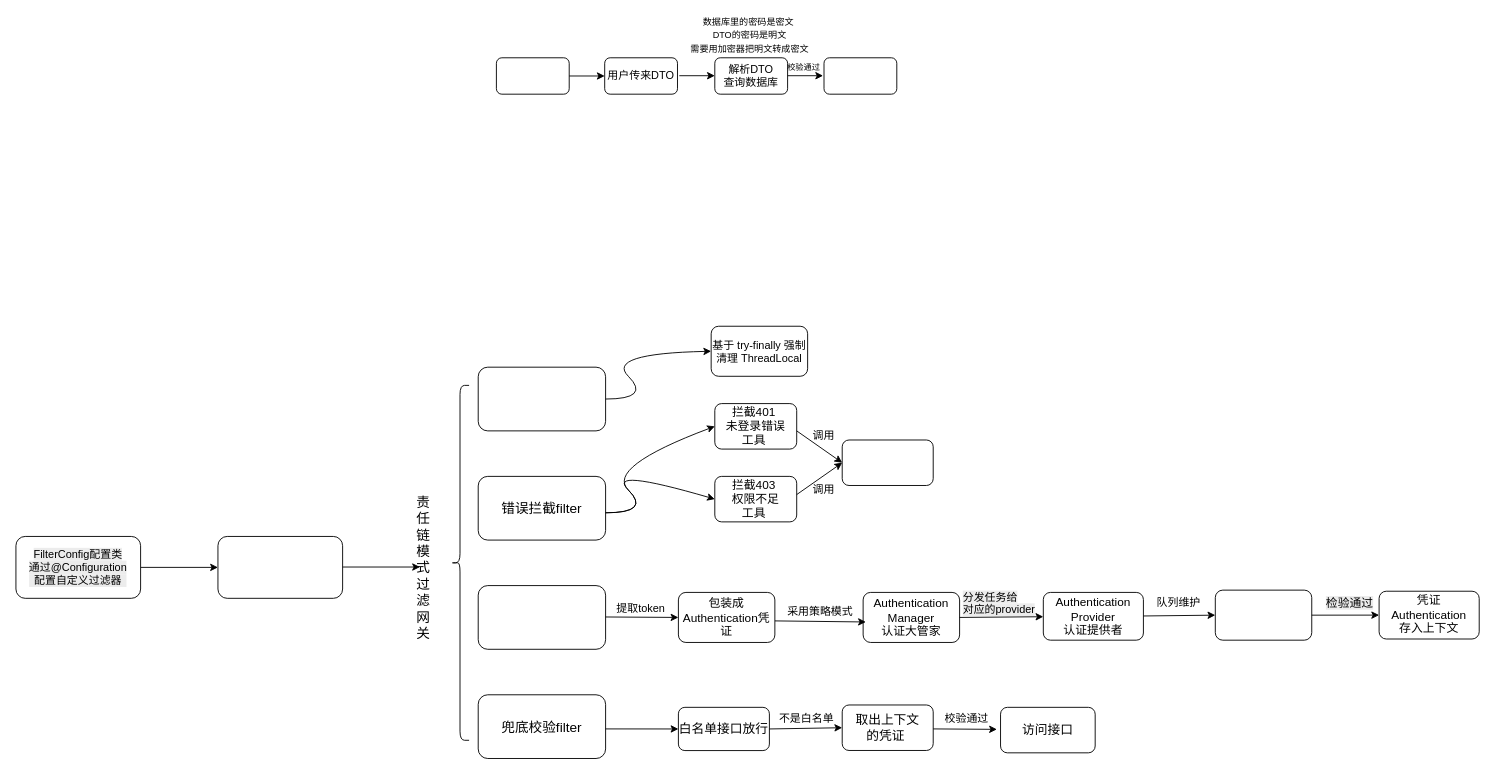
Image size: 1495x774. Some labels were removed from this diagram. Here are the shapes that lost their labels. From the top down, the centre of each, then its label:
pixel 532 75: login
pixel 860 75: 签发JWT
pixel 541 398: 上下文清理filter
pixel 887 462: renderJson方法 将错误转成 json格式输出
pixel 280 567: FilterChainProxy 创建虚拟过滤链条 将过滤器递归式加入遍历
pixel 541 617: Token校验filter
pixel 1263 614: Token认证提供者 负责真正校验token
